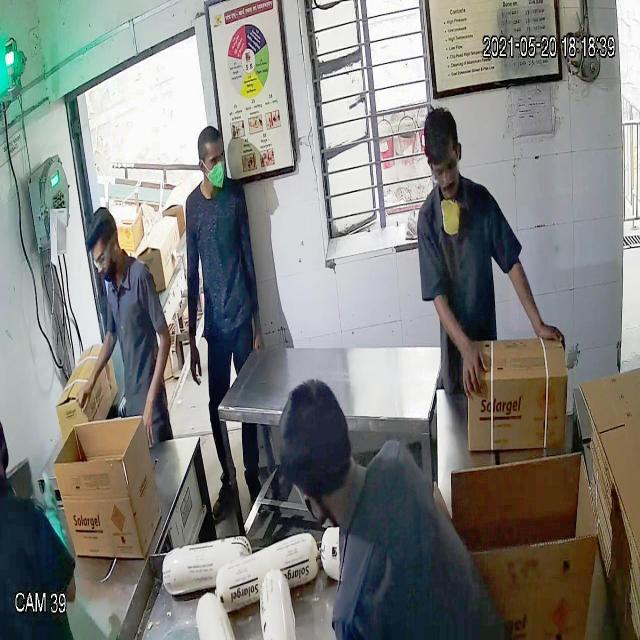glasses: (425, 154, 461, 186), (87, 244, 113, 271)
no-glass: (198, 148, 227, 172)
